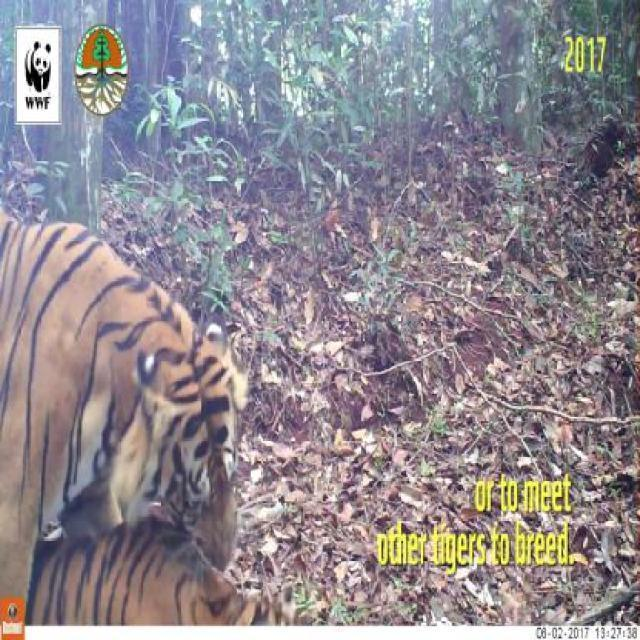tiger: (0, 210, 249, 626), (24, 489, 303, 626)
